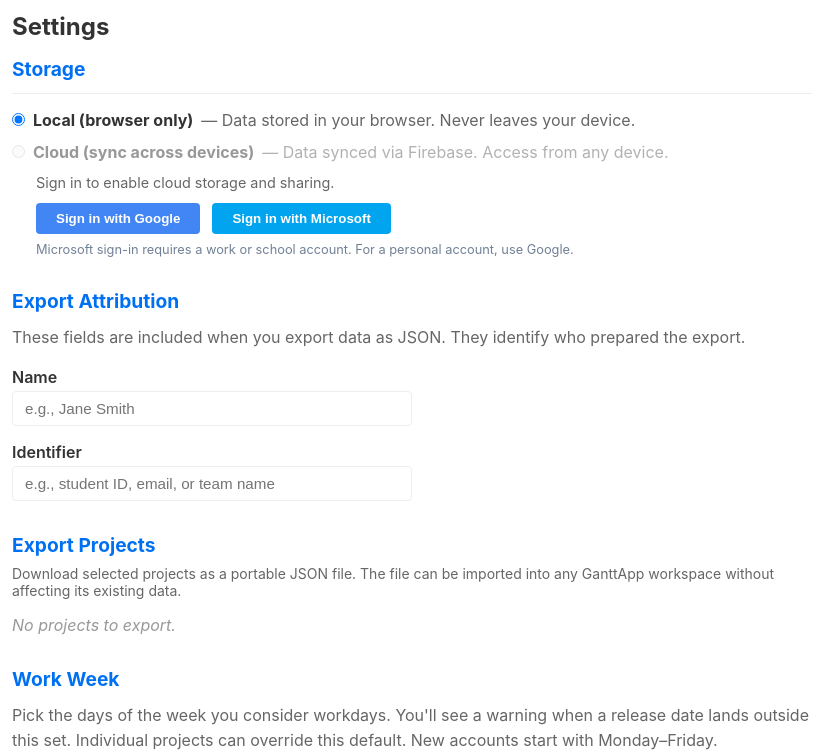
Test: SettingsTab wiring › signing in › shows the message from a failed sign-in
Click the button "Sign in with Google": (118, 218) x1=36 y1=203 x2=200 y2=234
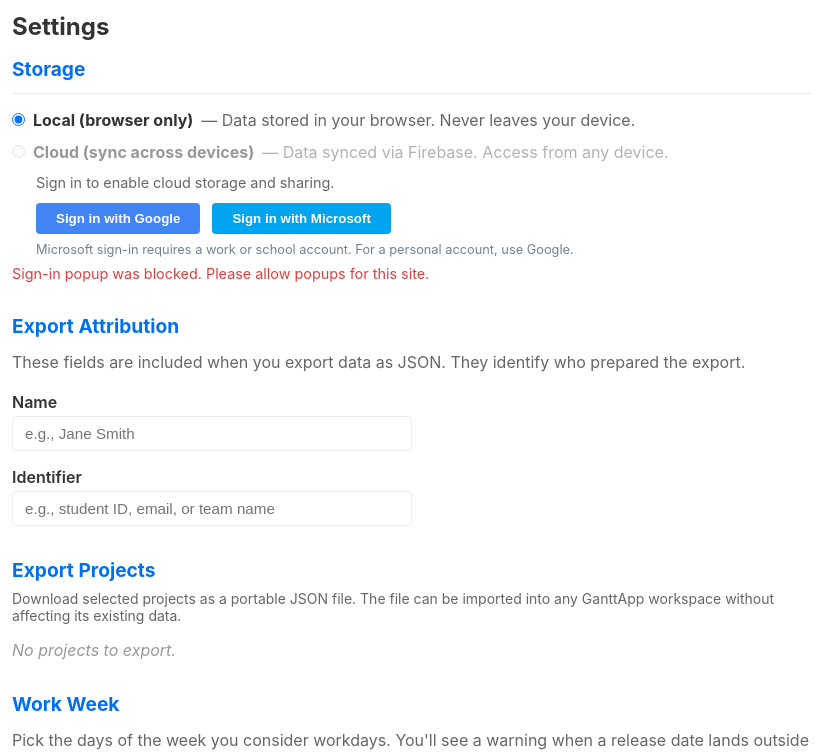
Expected: the text "Sign-in popup was blocked. Please allow popups for this site." is shown, x1=12 y1=265 x2=429 y2=282
